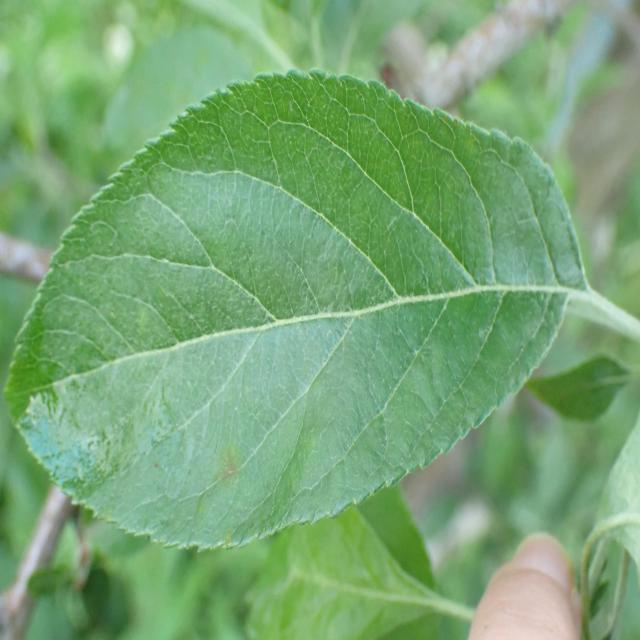scab: (21, 247, 560, 563)
